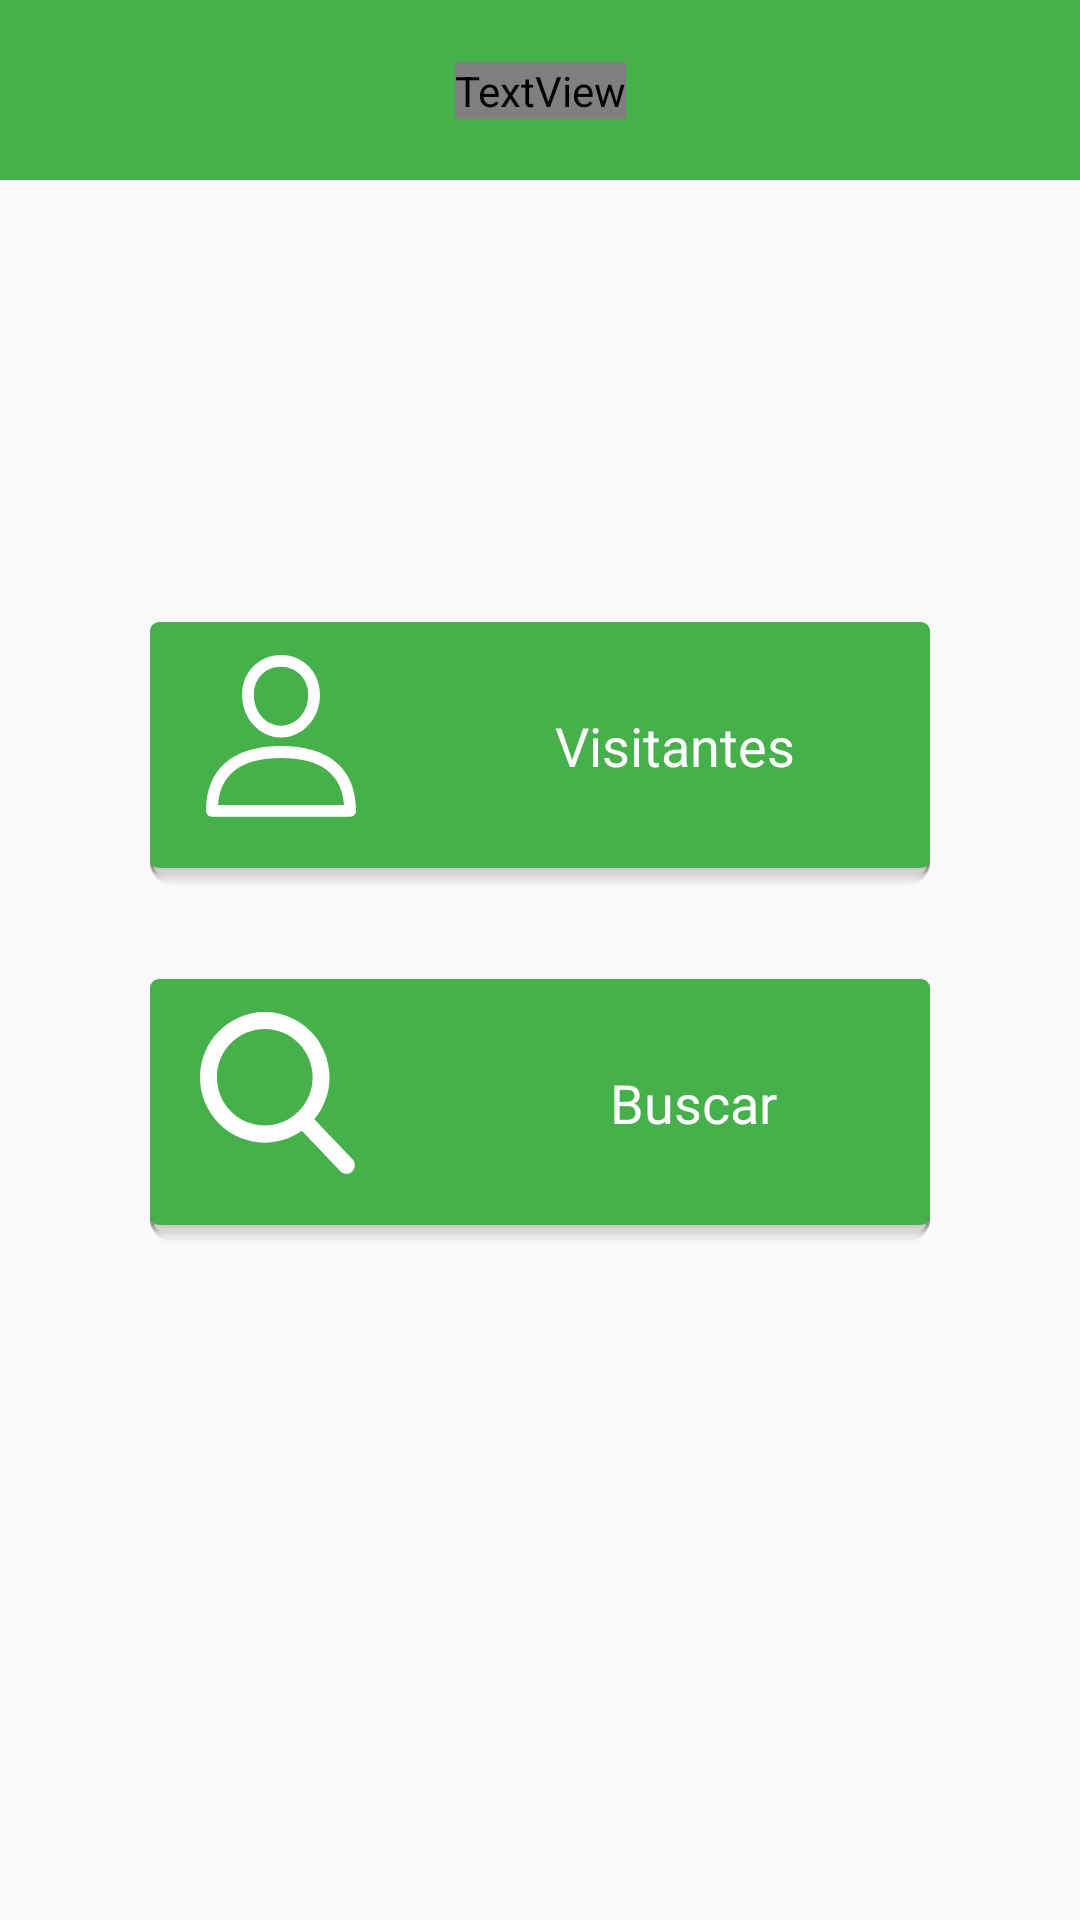

Screen size 1080*1920. Icon name, then its center in pixels as (x,y):
categoriesearch: (277,1093)
categorievisitors: (281,736)
